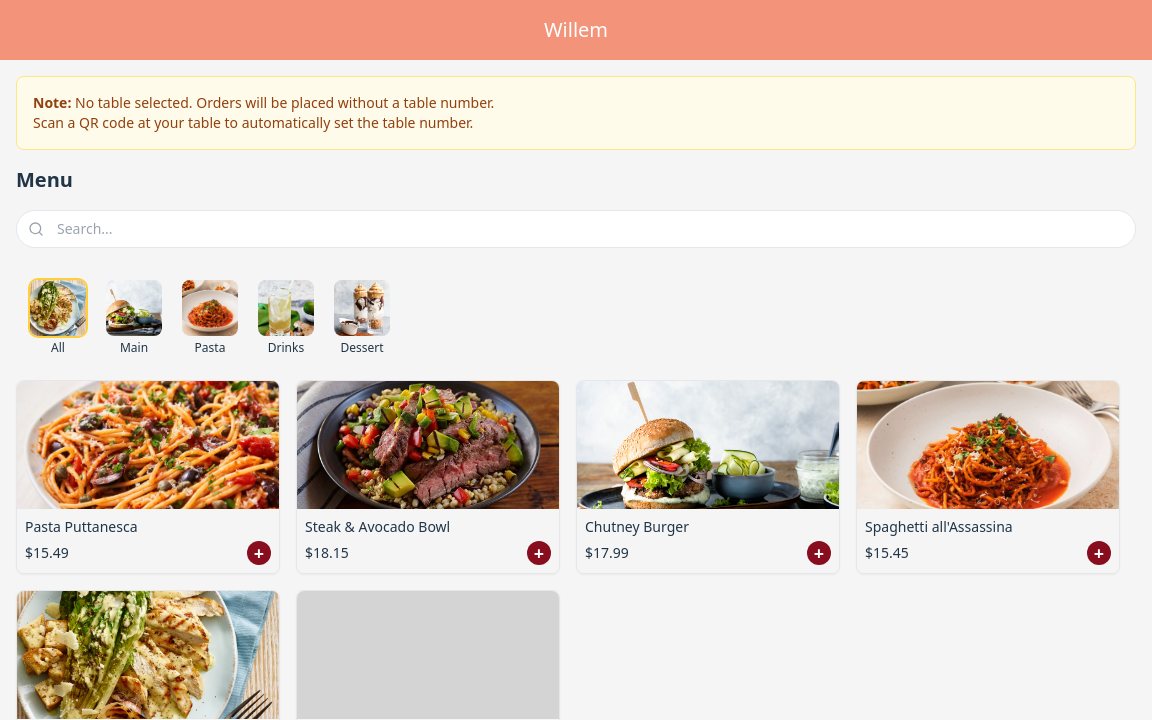
Test: Shopping Cart › allows adjusting quantity in cart
// Add an item to cart
Click the heading "Pasta Puttanesca": [82, 527] box [25,517,138,536]
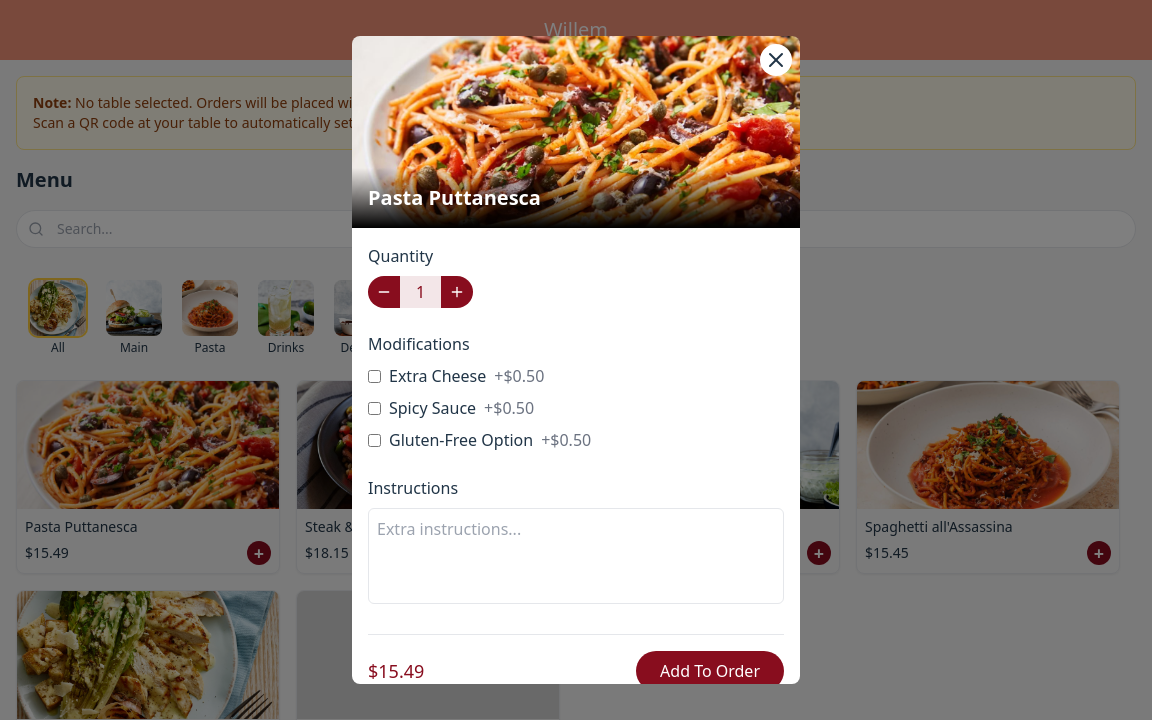
Click the button with test id "add-to-order-button": [710, 671] box [636,651,784,691]
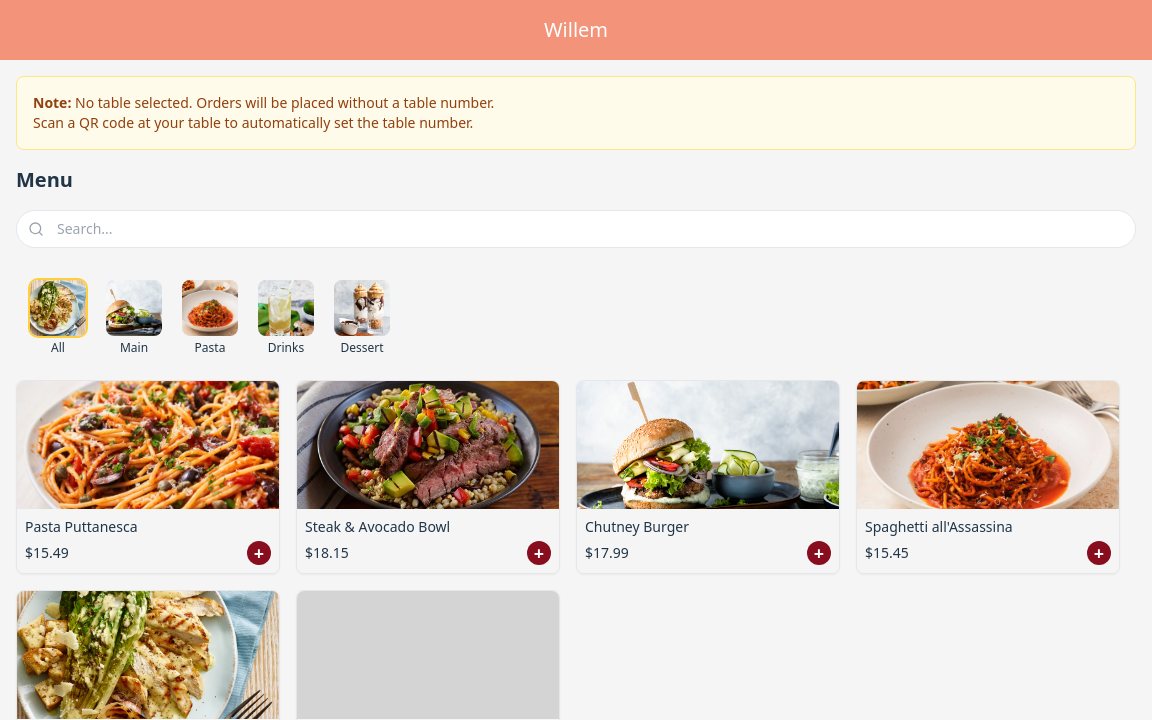
Scroll
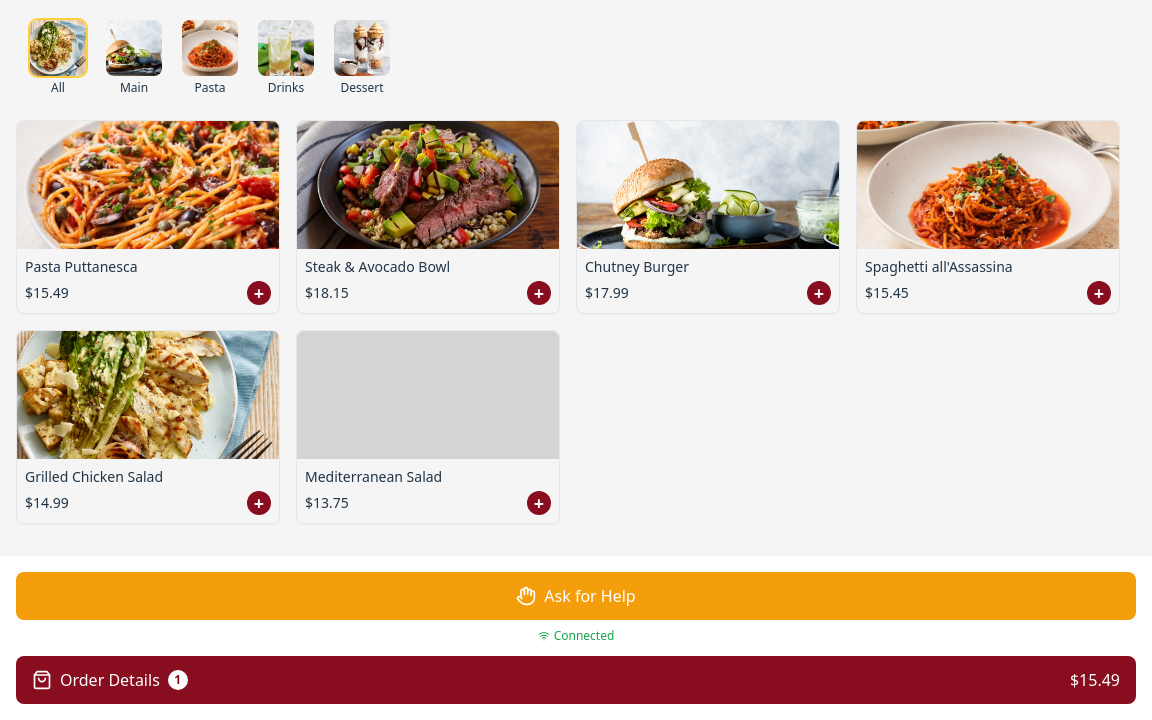
// Go to cart page
Click the button with test id "cart-summary-button": [110, 680] box [16,656,1136,704]
(page scrolled)
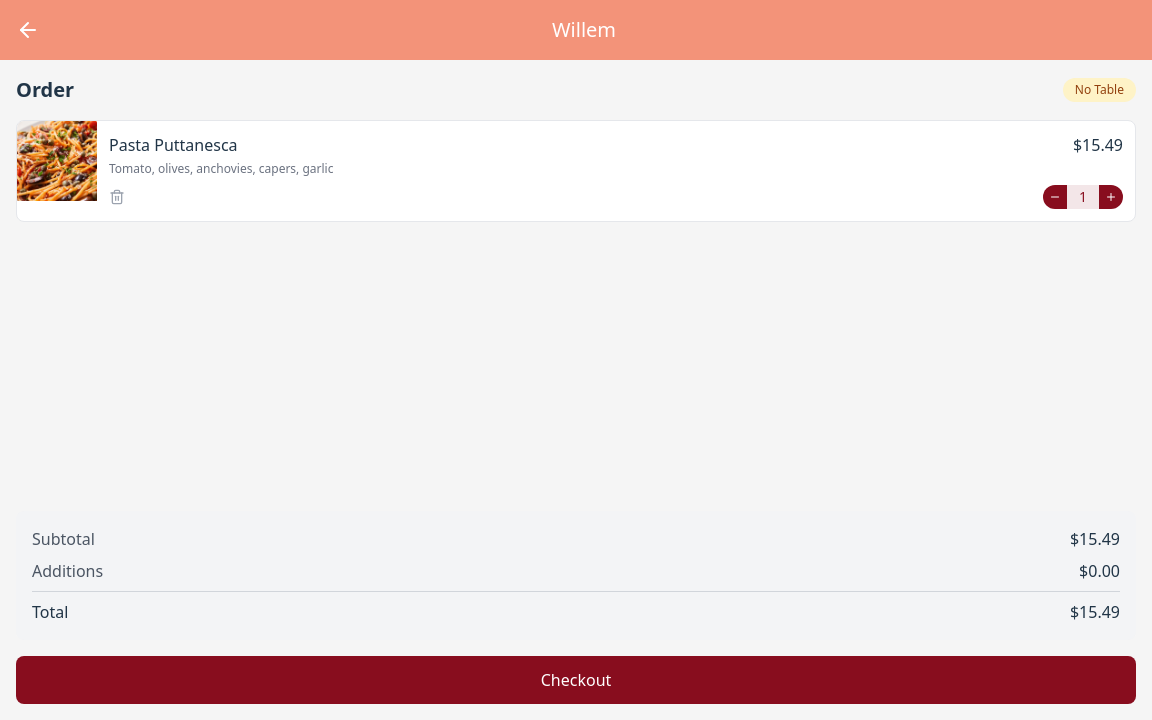
// Increase quantity again
Click the button with test id "increase-quantity": [1111, 197] box [1099,185,1123,209]
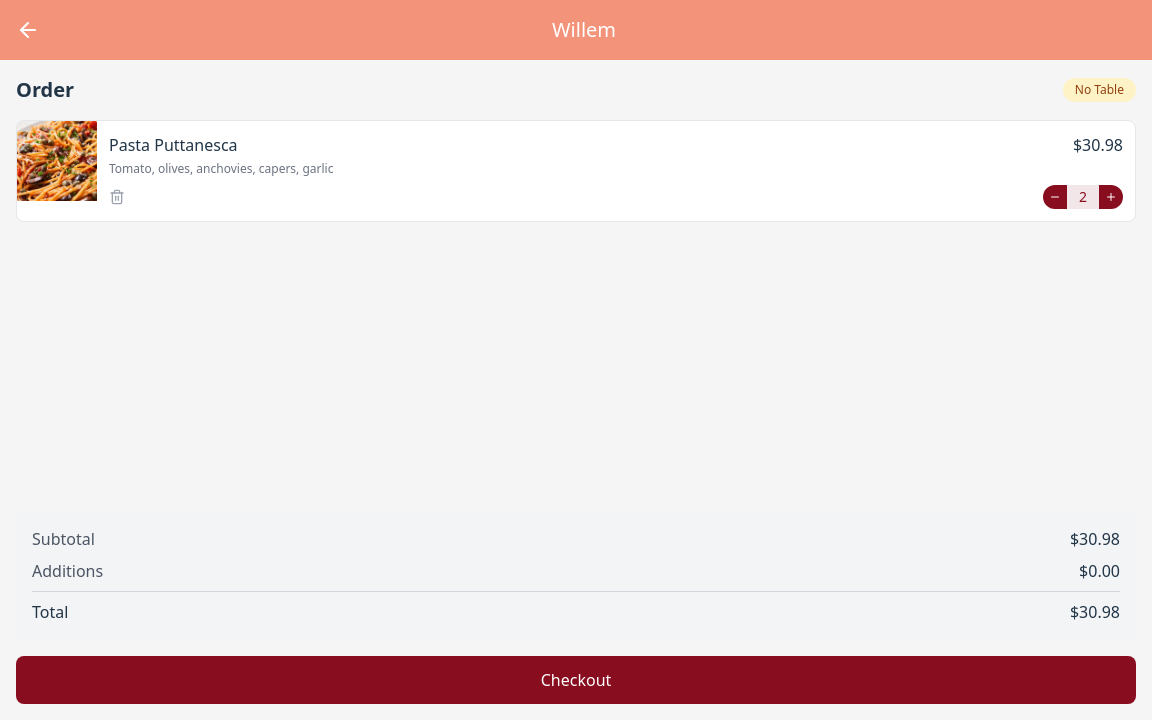
Check: the text with test id "quantity-display" reads "2", box [1079,187,1087,206]
Check: the text "$30.98" in the row of "Pasta Puttanesca" is shown, box [1073,133,1123,157]
